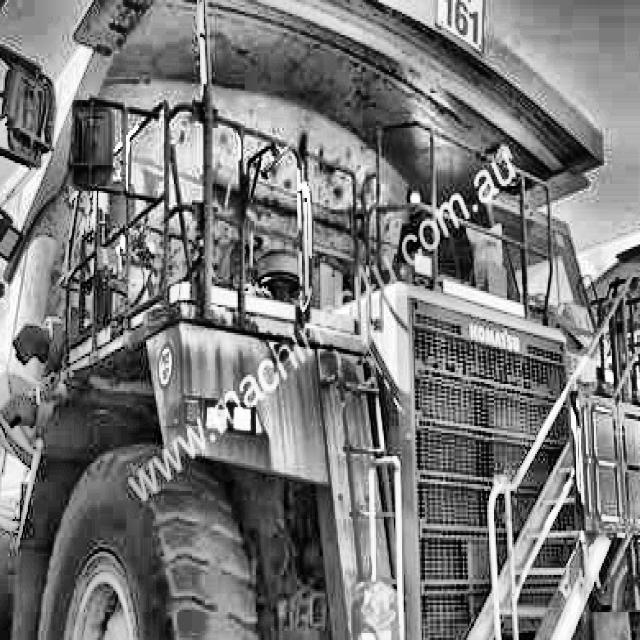dump_truck: (11, 0, 638, 640)
